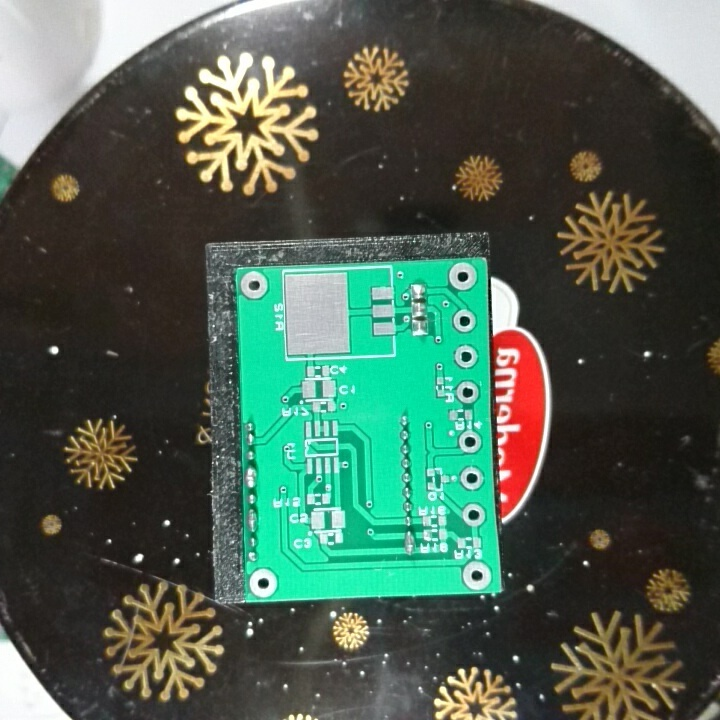F: (247, 566, 281, 599), (461, 557, 494, 590), (446, 260, 479, 292), (239, 269, 271, 301), (456, 426, 484, 457), (460, 500, 488, 529), (457, 464, 485, 492), (452, 343, 480, 369), (454, 380, 482, 406), (452, 308, 477, 334)
P: (243, 463, 260, 492), (402, 529, 418, 558), (245, 507, 261, 533)
